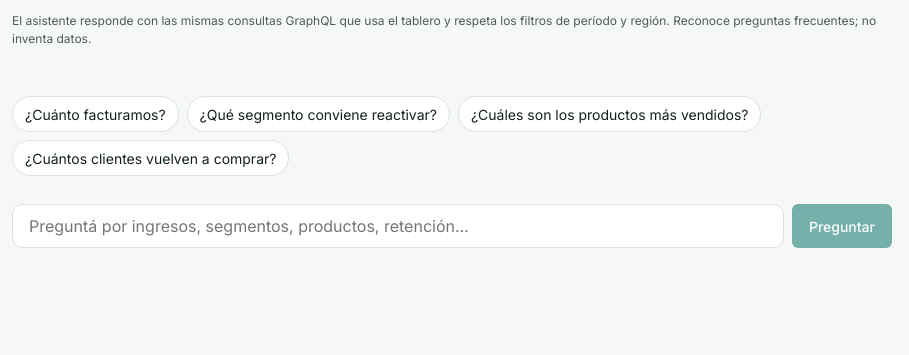
Scenario: Asistente › envía la pregunta con los filtros activos y muestra la respuesta con su consulta
Type "¿Cuánto facturamos?" into the field named "Escribí tu pregunta".
click(398, 226); type("¿Cuánto facturamos?")  # box [12,204,784,248]
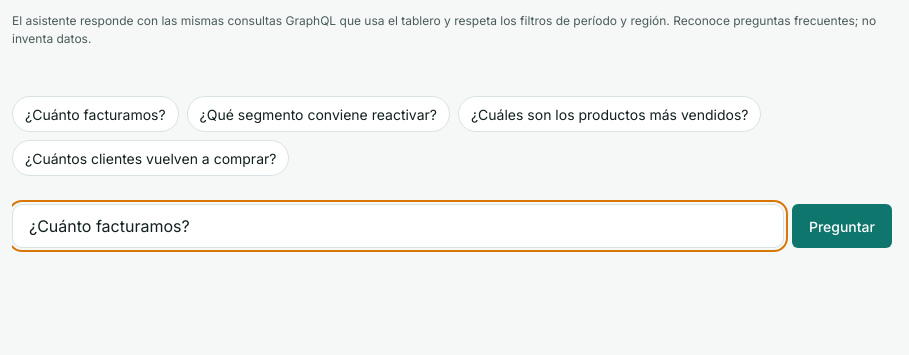
Click the button "Preguntar".
click(842, 226)  # box [792,204,892,248]
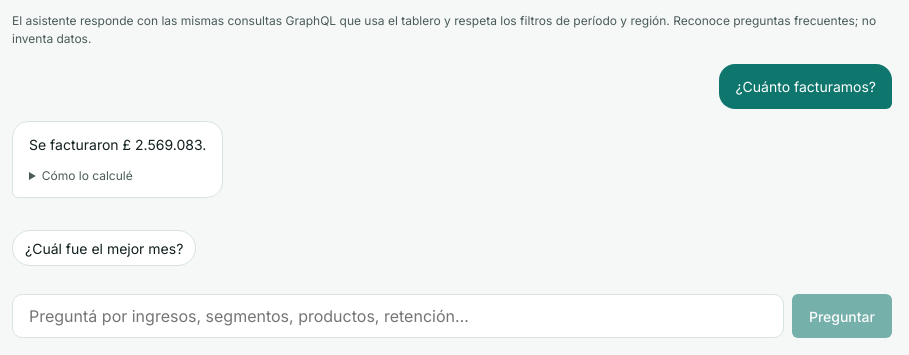
Expected: the text "Se facturaron £ 2.569.083." is shown, [29,134,206,155]
Expected: the heading "Cómo lo calculé" is shown, [42,168,133,183]
Expected: the button "¿Cuál fue el mejor mes?" is shown, [12,230,196,266]
